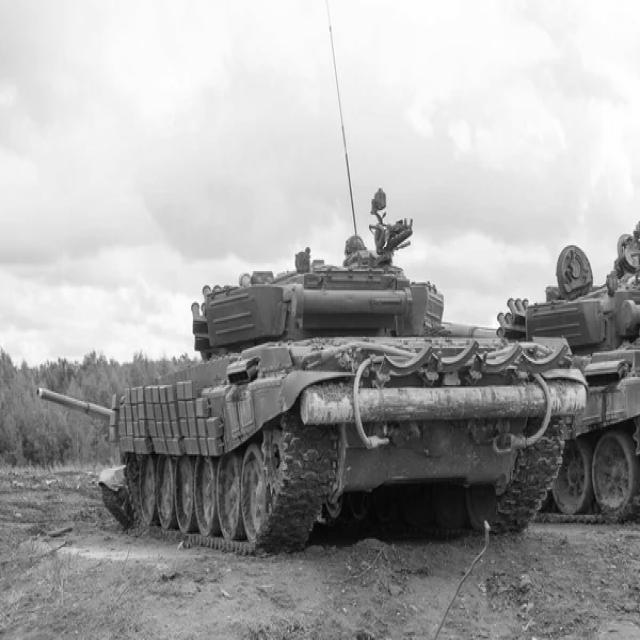Tank: (46, 230, 591, 540)
